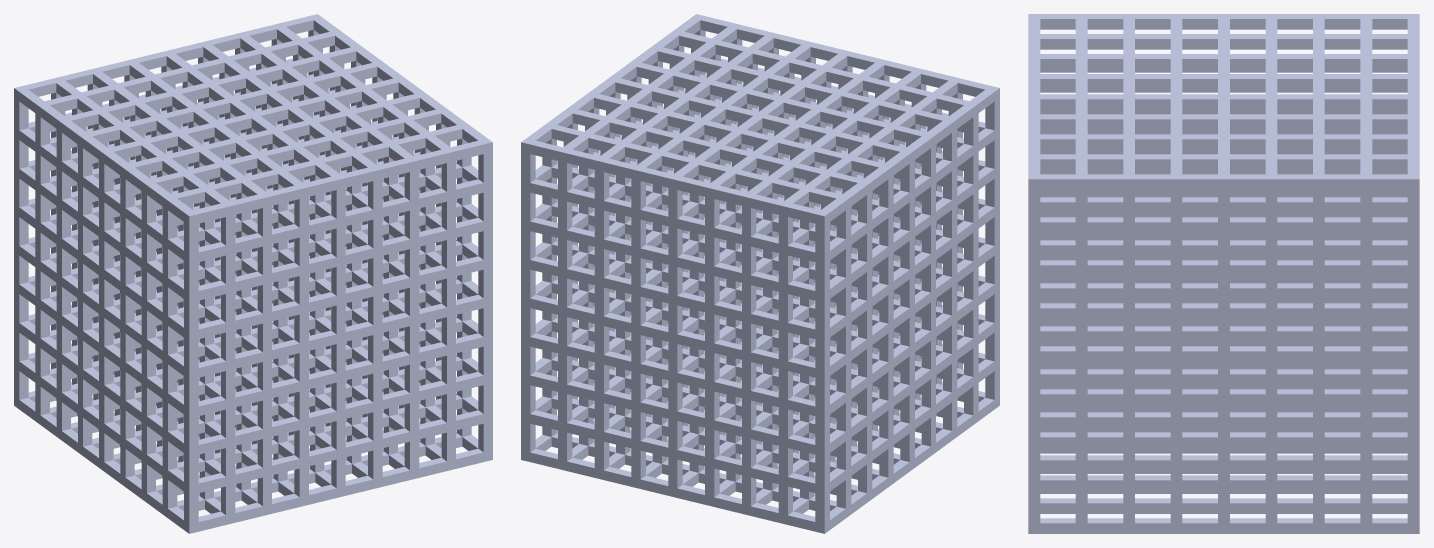
The picture shows the model from 3 angles, left to right: view 1: azimuth 30°, elevation 25°; view 2: azimuth 150°, elevation 25°; view 3: azimuth 270°, elevation 25°; orthographic projection. The views are drawn at different scales.
Visible parts, largest first — view 1: Part3; view 2: Part3; view 3: Part3.
Part boxes in pixels (box(x1,y1,x2,y2)): Part3: box(14, 14, 492, 533); Part3: box(521, 14, 999, 533); Part3: box(1028, 14, 1419, 533).
Bounding box in the file's own units: 0.0066 × 0.0066 × 0.0066.
